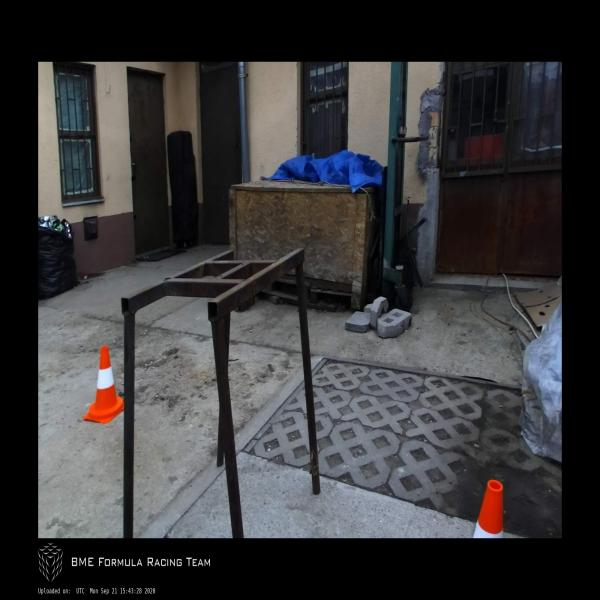orange_cone: (83, 345, 125, 424), (471, 478, 505, 538)
